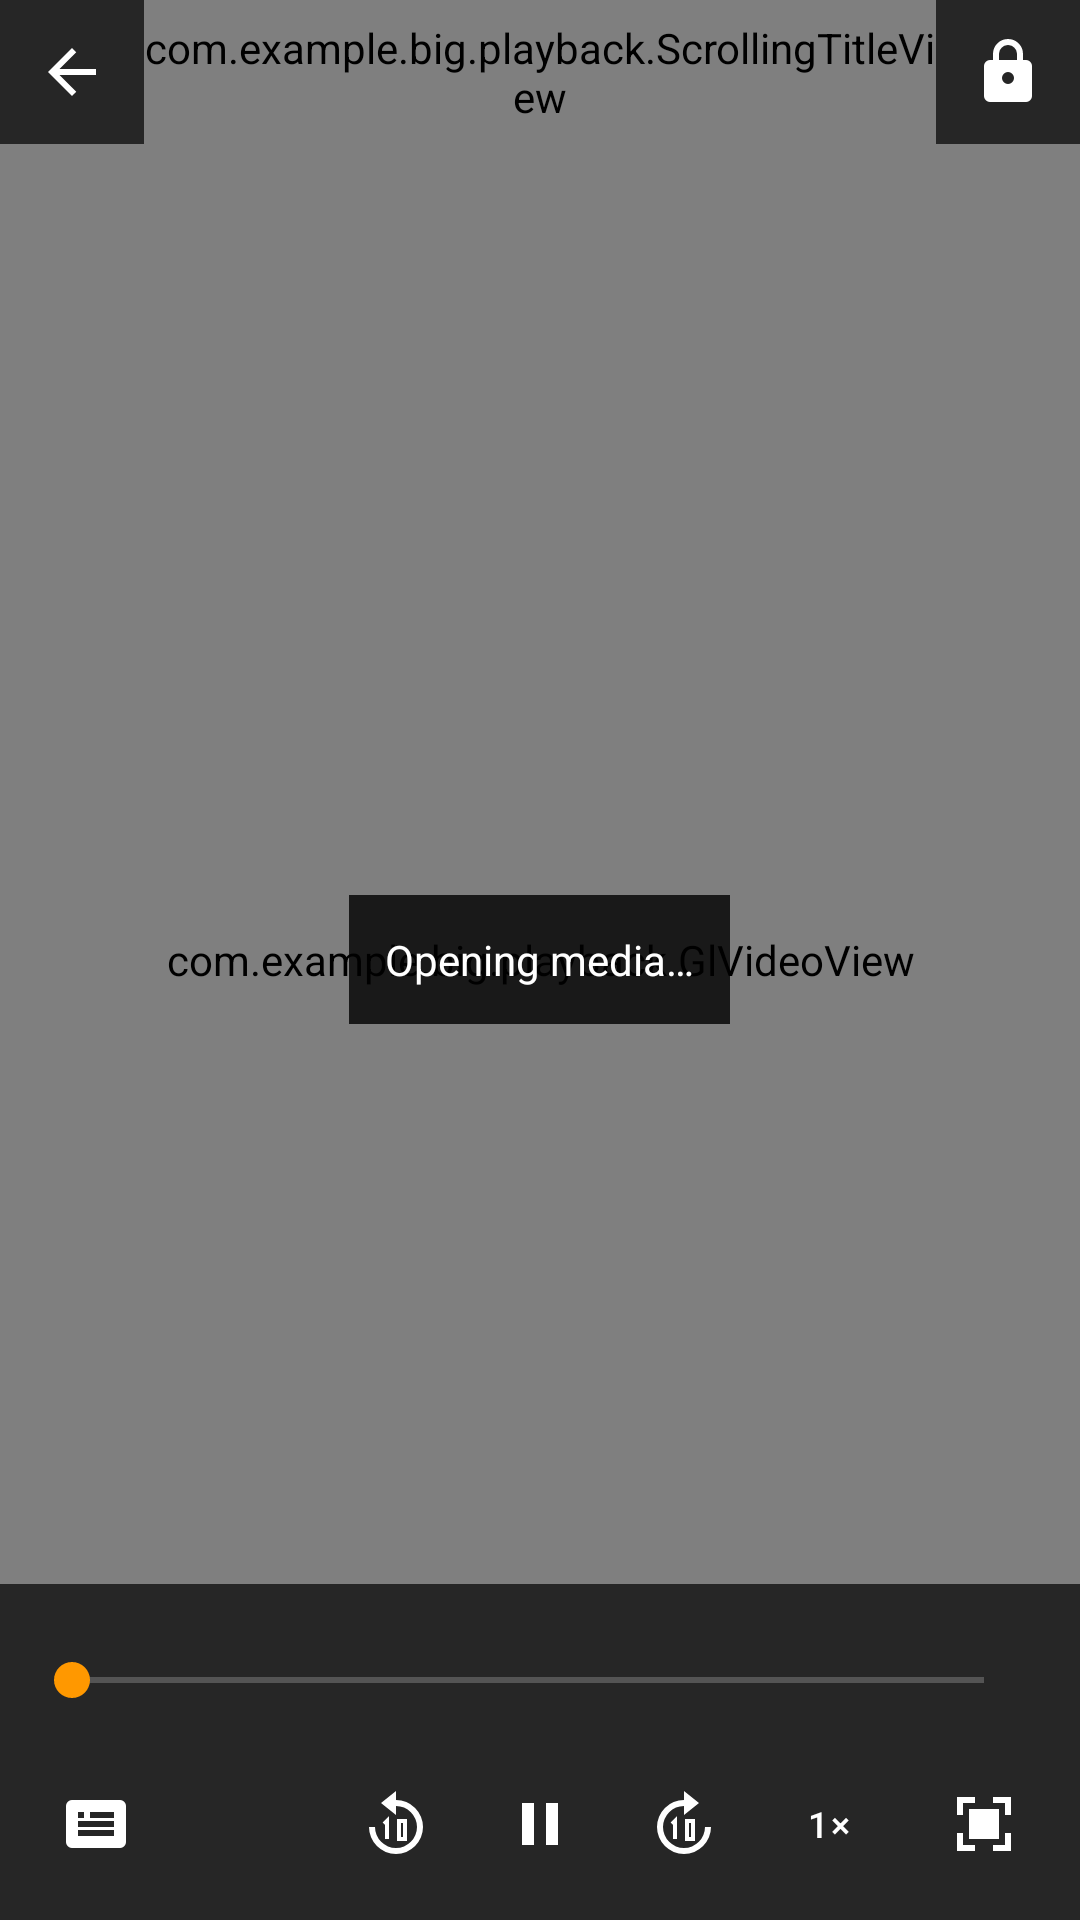

Icons on this 1080w x 1920h Android screen, each with the point to tap as [x,y]:
Back 10 seconds: [396,1822]
Fit: [984,1824]
Forward 10 seconds: [684,1822]
Lock: [1008,72]
Pause: [540,1824]
Tracks: [96,1824]
